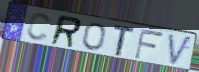C: (25, 12, 53, 43)
F: (133, 27, 165, 61)
O: (81, 22, 107, 52)
R: (48, 14, 84, 50)
T: (112, 25, 137, 58)
V: (167, 33, 194, 67)
